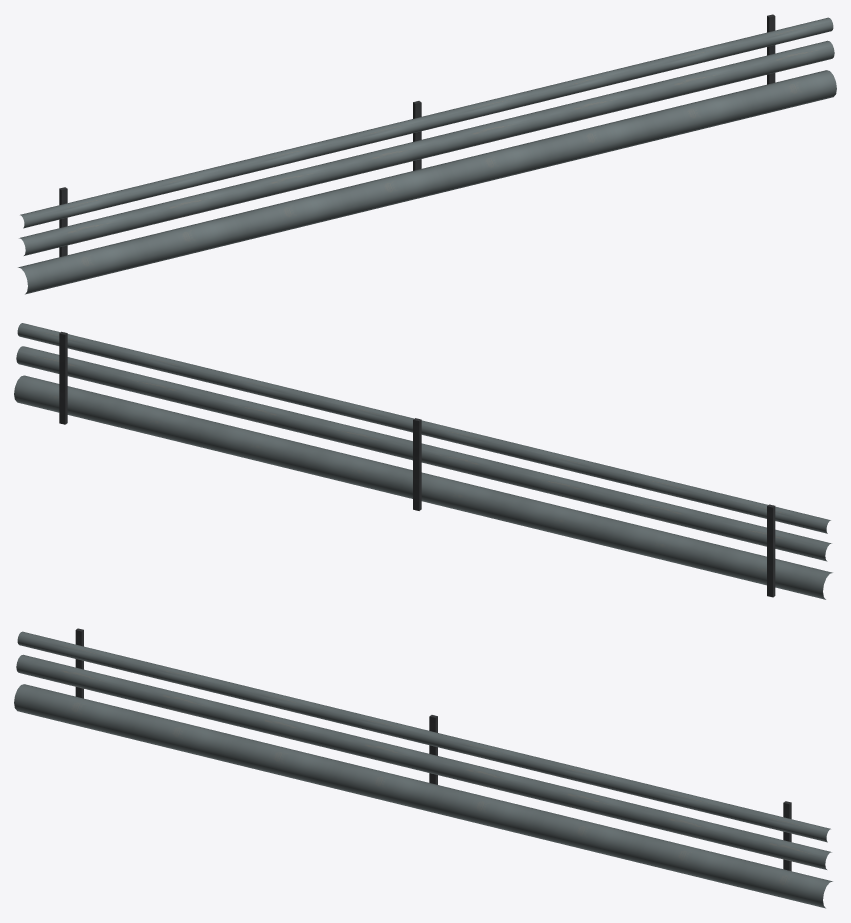
File: pipe_run.glb
The picture shows the model from 3 angles, top to bottom: view 1: azimuth 30°, elevation 25°; view 2: azimuth 150°, elevation 25°; view 3: azimuth 330°, elevation 25°; orthographic projection.
Visible parts, largest first — view 1: pipe_run; view 2: pipe_run; view 3: pipe_run.
Part boxes in pixels (x1,y1,x2,y2): pipe_run: (18, 14, 836, 294); pipe_run: (14, 323, 832, 599); pipe_run: (14, 628, 832, 908).
Bounding box in the file's own units: 8 × 0.85 × 0.28.
Materials: 2 (2 with a texture image).
